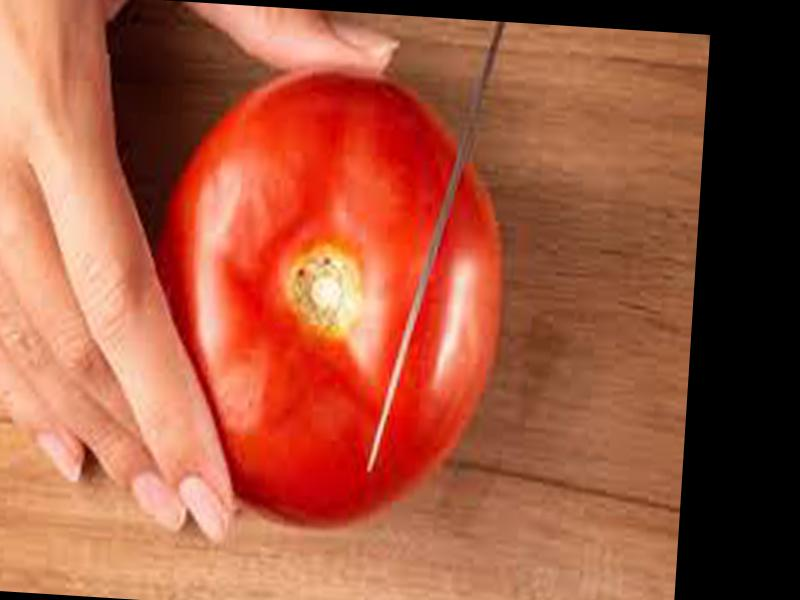Tomato: (137, 64, 507, 535)
